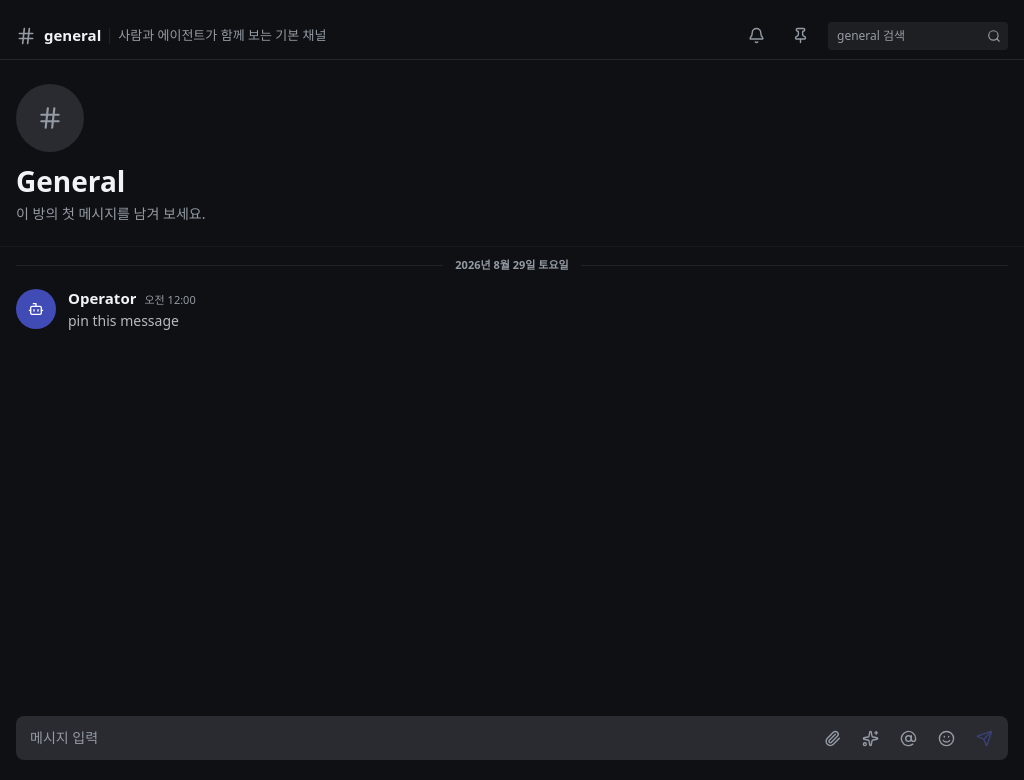
Test case: message-pin view ownership › does not expose a lobby mutation when no exact authority exists
Click the button named "고정 메시지": x=800, y=36 [778,14,822,58]
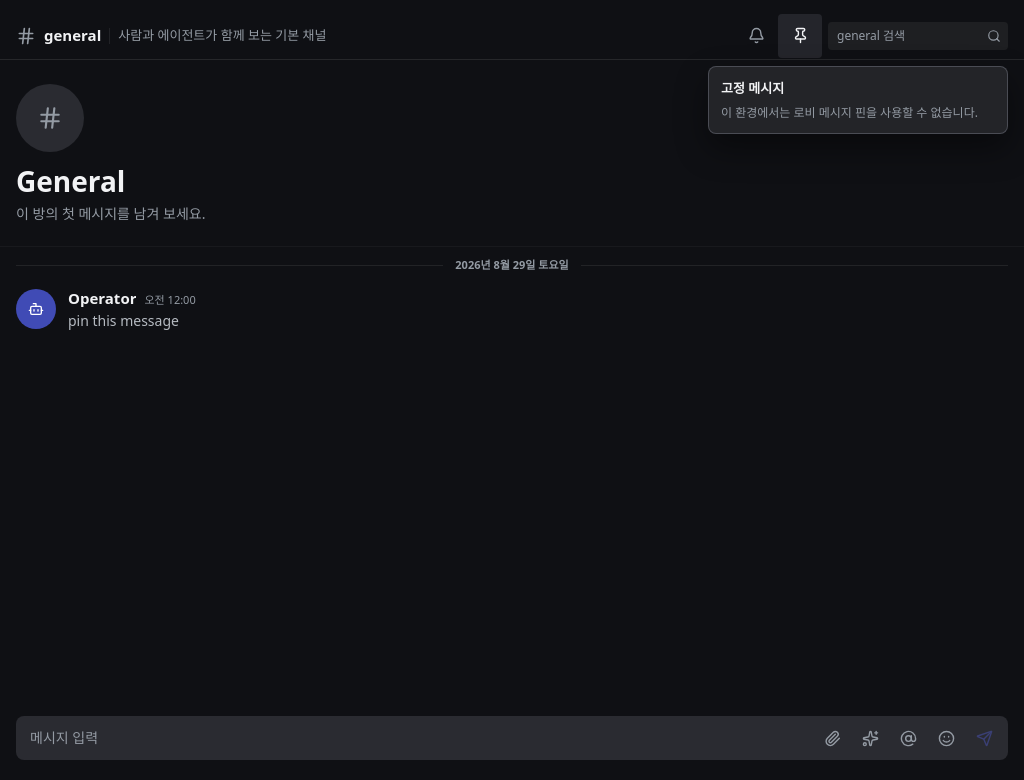
Expected: the text "이 환경에서는 로비 메시지 핀을 사용할 수 없습니다." is shown, [721,104,995,121]
